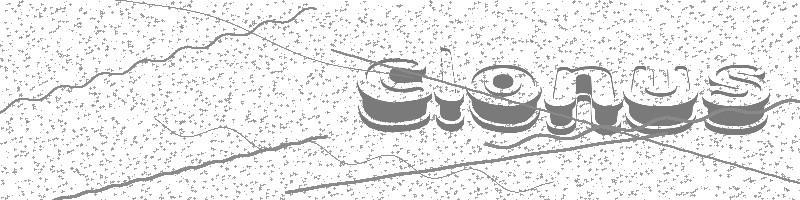c: (356, 58, 433, 134)
l: (433, 45, 465, 133)
n: (545, 65, 623, 135)
o: (467, 64, 542, 134)
s: (702, 63, 770, 136)
u: (624, 64, 699, 136)
